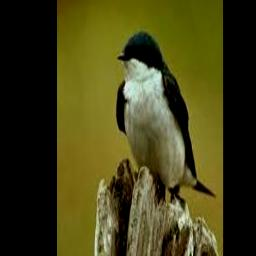Swallow: (117, 31, 215, 200)
